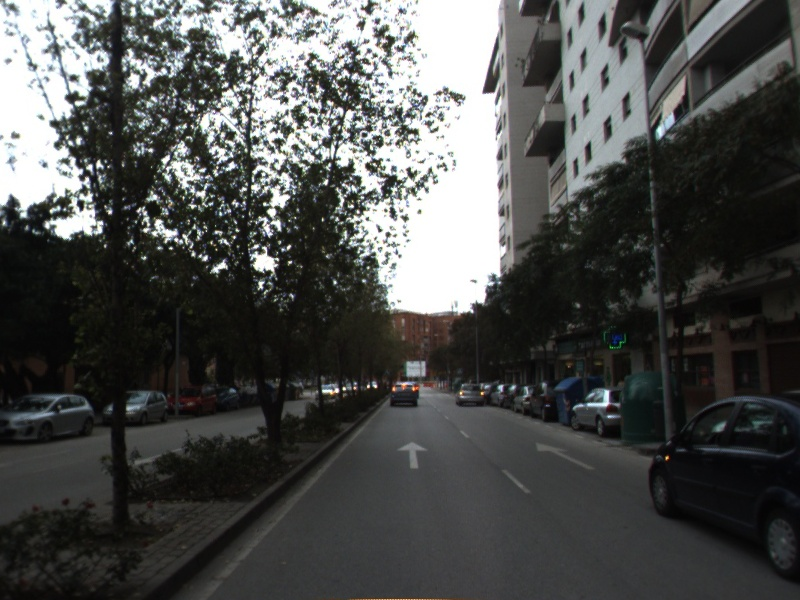STRAIGHT: (533, 440, 598, 472), (395, 440, 431, 470)
